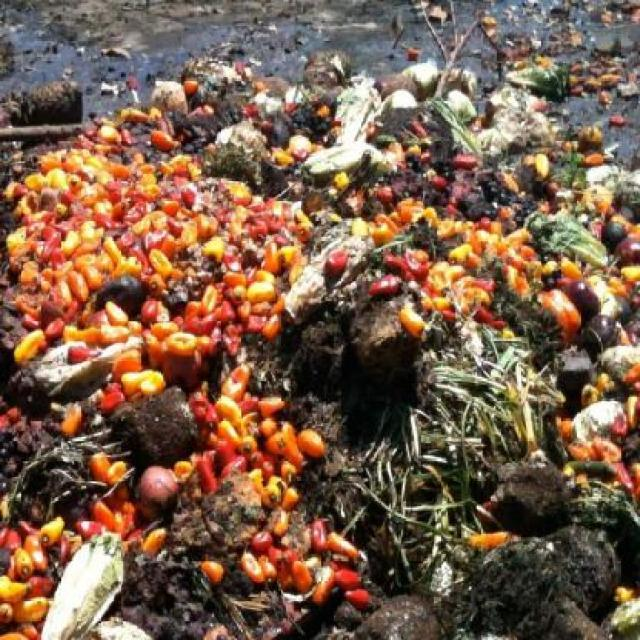garbage: (2, 80, 631, 639), (432, 2, 636, 160)
